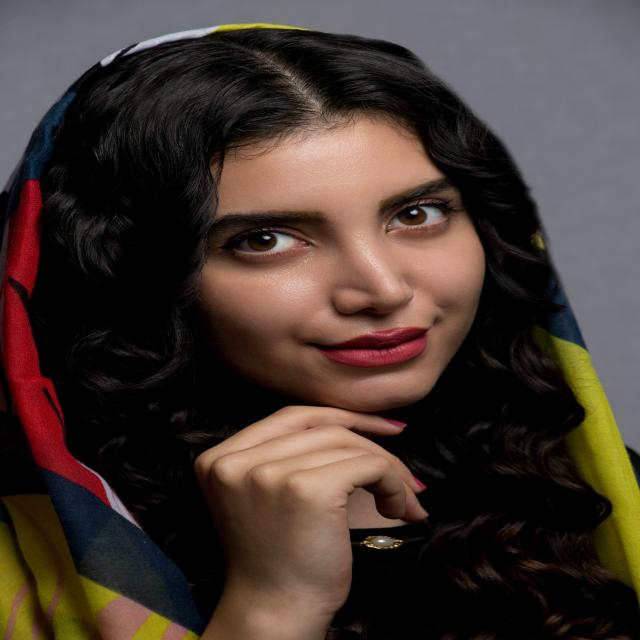sem_oculos: (143, 194, 545, 270)
